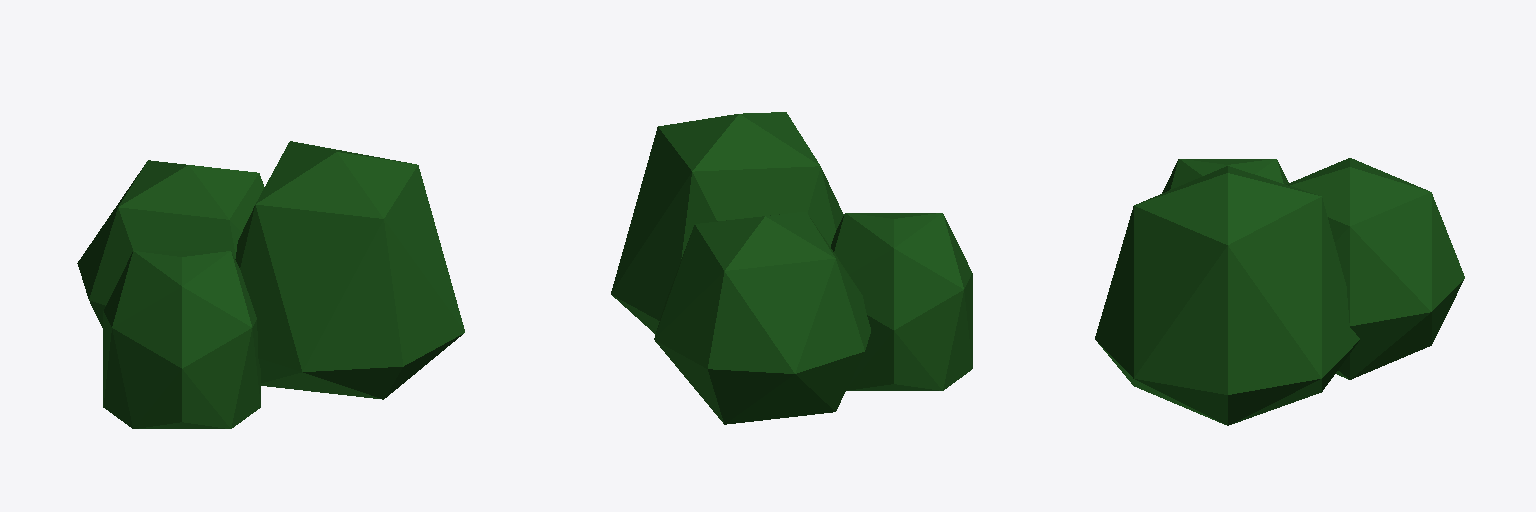
Rendered from little_bush.obj.
3 renders of one model, left to right at view 1: azimuth 30°, elevation 25°; view 2: azimuth 150°, elevation 25°; view 3: azimuth 270°, elevation 25°, orthographic.
Visible parts, largest first — view 1: Bush_Mesh.009; view 2: Bush_Mesh.009; view 3: Bush_Mesh.009.
Part boxes in pixels (x1,y1,x2,y2): Bush_Mesh.009: (77,141,464,428); Bush_Mesh.009: (611,112,972,424); Bush_Mesh.009: (1095,158,1464,425).
Size of the model in its own units: 62.63 by 38.67 by 59.09.